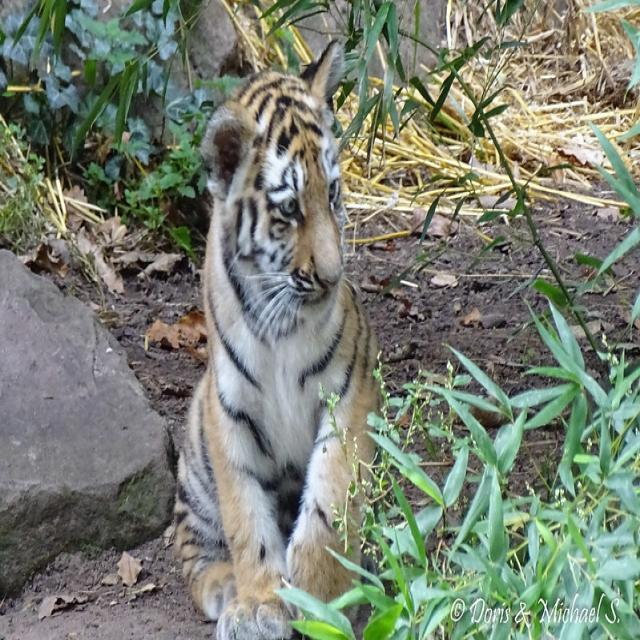Tiger: (160, 61, 405, 639)
